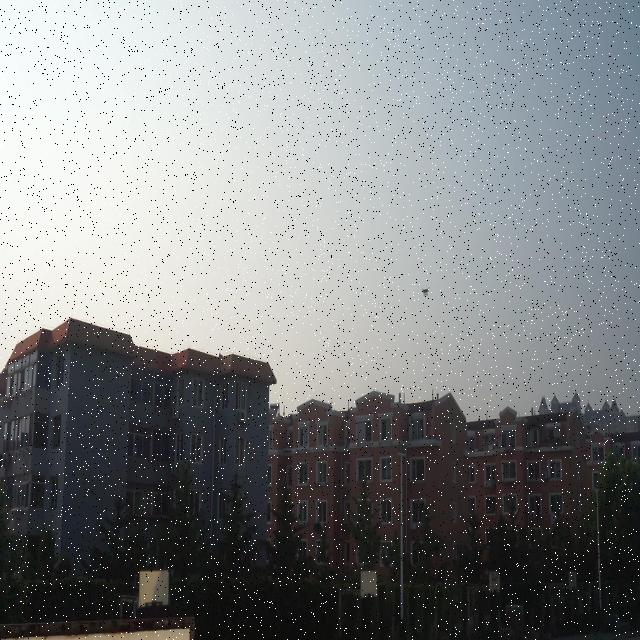UAV: (422, 287, 431, 297)
